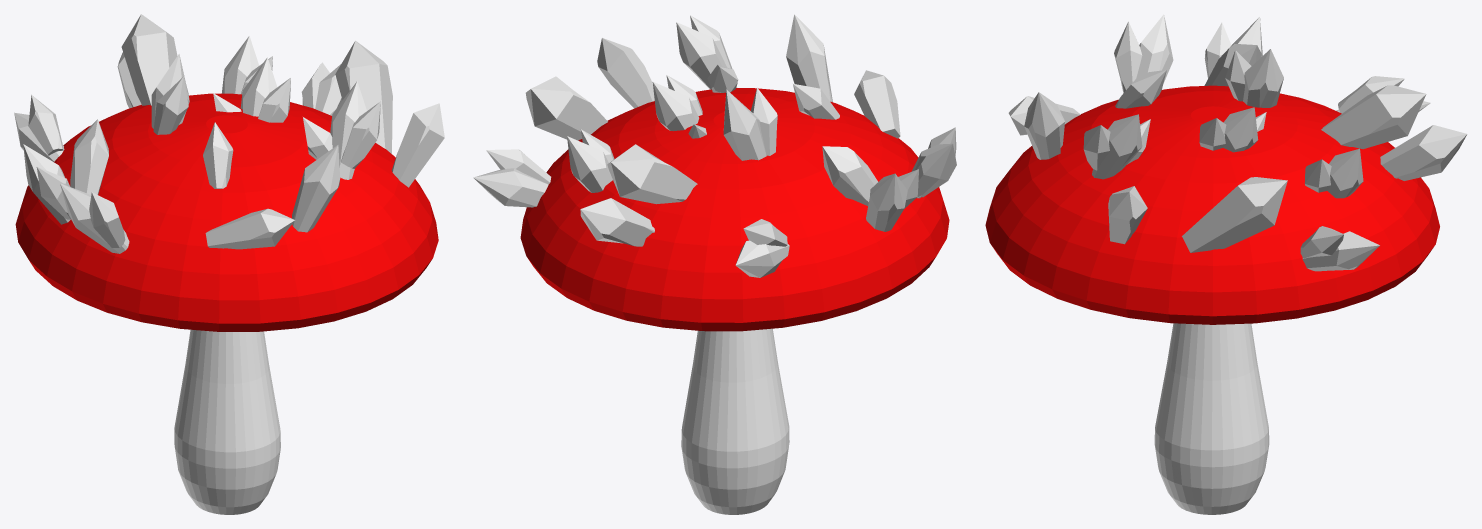
Rendered from champignons_3.fbx.
3 renders of one model, left to right at view 1: azimuth 30°, elevation 25°; view 2: azimuth 150°, elevation 25°; view 3: azimuth 270°, elevation 25°, orthographic. The views are drawn at different scales.
Parts seen in each view (by area): view 1: Sphere, Cylinder.015, Cylinder.017, Cylinder.003, Cylinder.025, Cylinder.005, Cylinder.011, Cylinder.013, Cylinder.016, Cylinder.010, Cylinder.024, Cylinder.022 (+13 smaller); view 2: Sphere, Cylinder.017, Cylinder.015, Cylinder.025, Cylinder.001, Cylinder.003, Cylinder.011, Cylinder.005, Cylinder.028, Cylinder.026, Cylinder.013, Cylinder.009 (+9 smaller); view 3: Sphere, Cylinder.015, Cylinder.017, Cylinder.001, Cylinder.003, Cylinder.013, Cylinder.028, Cylinder.025, Cylinder.026, Cylinder.024, Cylinder.019, Cylinder.008 (+11 smaller).
Boxes of the visible parts, x1,y1,x2,y2 form: Sphere: [15, 93, 438, 514]; Cylinder.015: [335, 40, 392, 153]; Cylinder.017: [121, 14, 177, 105]; Cylinder.003: [292, 145, 340, 232]; Cylinder.025: [391, 103, 444, 187]; Cylinder.005: [205, 208, 294, 249]; Cylinder.011: [70, 119, 108, 194]; Cylinder.013: [330, 81, 366, 179]; Cylinder.016: [341, 101, 380, 168]; Cylinder.010: [203, 122, 233, 188]; Cylinder.024: [60, 183, 129, 253]; Cylinder.022: [153, 77, 188, 134]; Sphere: [520, 88, 949, 514]; Cylinder.017: [607, 144, 697, 204]; Cylinder.015: [525, 76, 607, 140]; Cylinder.025: [597, 38, 654, 108]; Cylinder.001: [580, 198, 654, 246]; Cylinder.003: [786, 14, 832, 102]; Cylinder.011: [822, 146, 877, 205]; Cylinder.005: [854, 70, 900, 138]; Cylinder.028: [723, 89, 766, 160]; Cylinder.026: [473, 168, 548, 207]; Cylinder.013: [676, 22, 737, 89]; Cylinder.009: [866, 173, 907, 231]; Sphere: [985, 85, 1439, 514]; Cylinder.015: [1182, 177, 1287, 252]; Cylinder.017: [1321, 85, 1426, 149]; Cylinder.001: [1380, 125, 1467, 180]; Cylinder.003: [1024, 92, 1064, 159]; Cylinder.013: [1092, 114, 1142, 179]; Cylinder.028: [1243, 49, 1283, 107]; Cylinder.025: [1108, 186, 1147, 244]; Cylinder.026: [1302, 231, 1379, 271]; Cylinder.024: [1136, 14, 1173, 83]; Cylinder.019: [1327, 148, 1363, 198]; Cylinder.008: [1223, 107, 1258, 152].
Bounding box in the file's own units: 284 × 313 × 310.
Materials: 1 (1 with a texture image).
